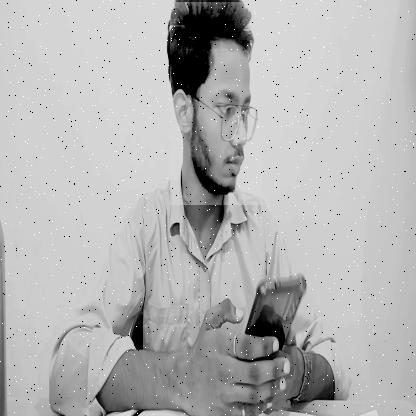Distracted: (170, 2, 262, 205)
